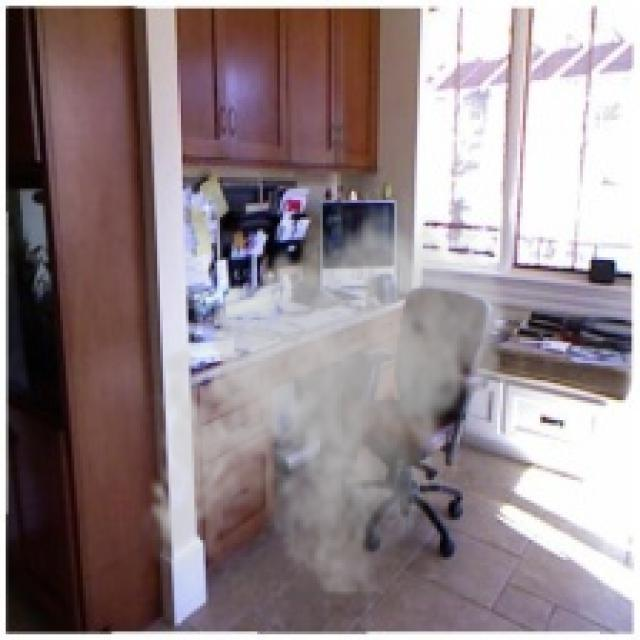Smoke: (137, 197, 514, 597)
